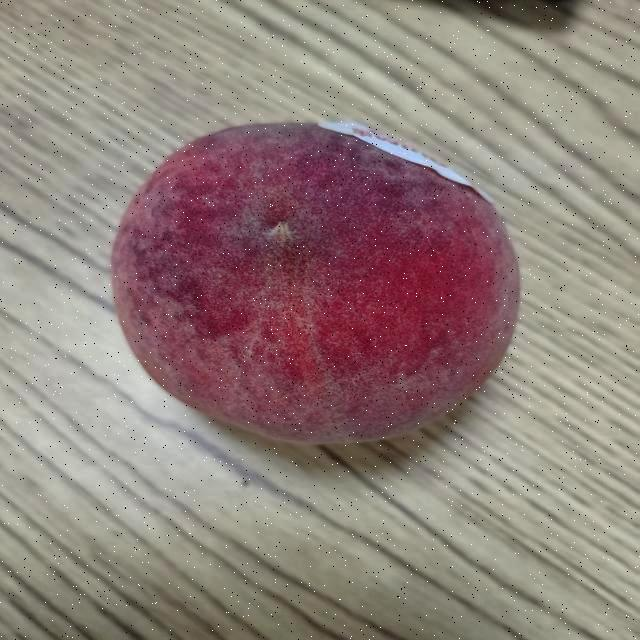Persik: (96, 111, 533, 453)
